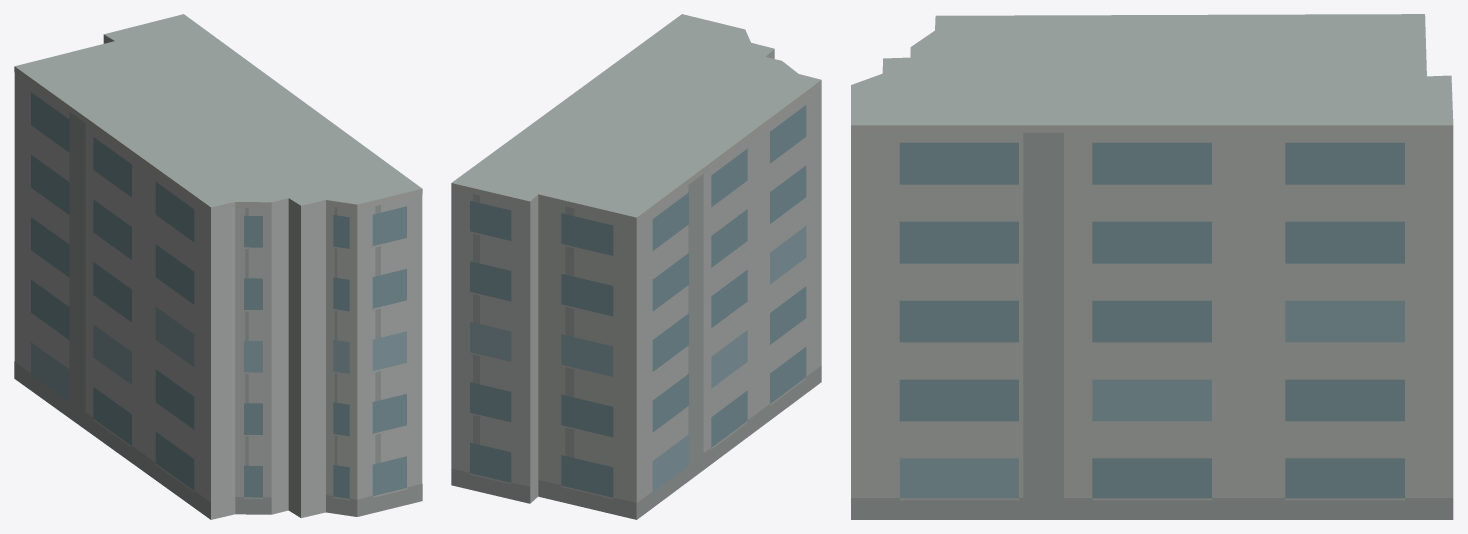
The model's file is survey-upis-33039784.glb.
3 renders of one model, left to right at view 1: azimuth 30°, elevation 25°; view 2: azimuth 150°, elevation 25°; view 3: azimuth 270°, elevation 25°, orthographic. The views are drawn at different scales.
Visible parts, largest first — view 1: survey-upis-33039784.tmp; view 2: survey-upis-33039784.tmp; view 3: survey-upis-33039784.tmp.
Boxes of the visible parts, x1=… form: survey-upis-33039784.tmp: x1=14, y1=14, x2=422, y2=519; survey-upis-33039784.tmp: x1=451, y1=14, x2=821, y2=519; survey-upis-33039784.tmp: x1=851, y1=14, x2=1453, y2=519.
Bounding box in the file's own units: 7.76 × 12.8 × 17.74.
